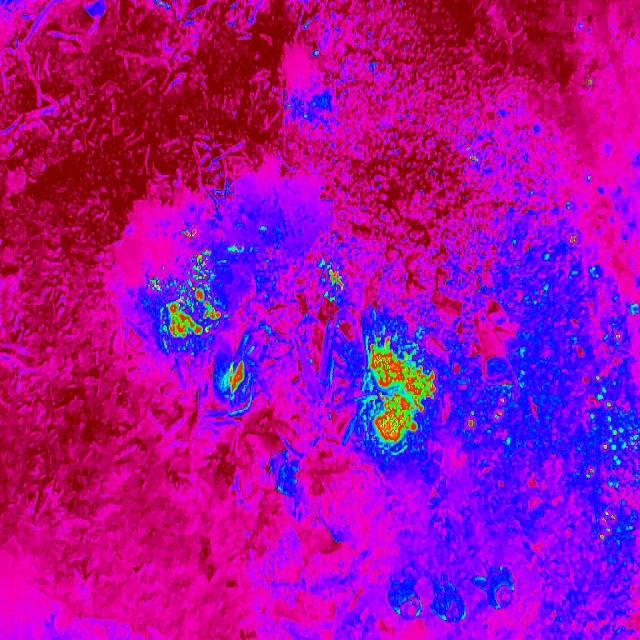fire: (573, 305, 640, 551), (362, 337, 436, 454), (146, 245, 226, 349), (463, 394, 513, 434), (322, 264, 348, 304), (224, 359, 250, 397), (564, 227, 582, 249)
